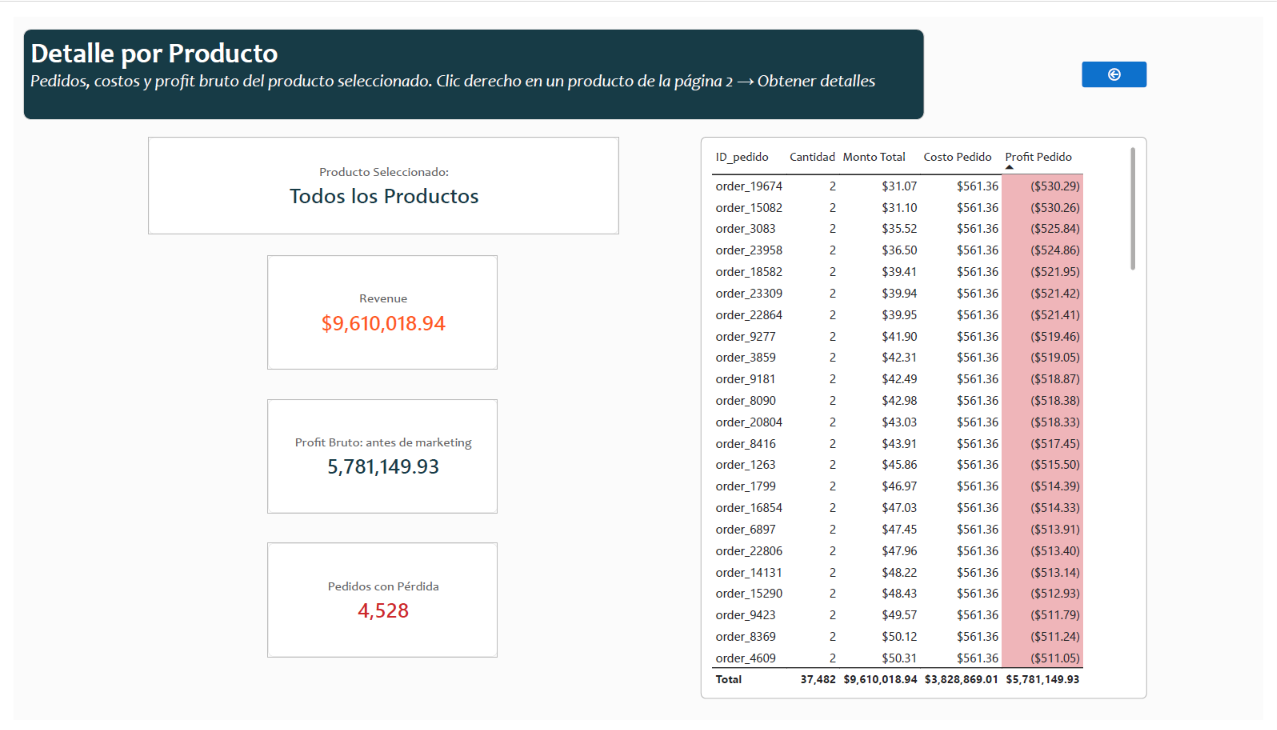

The dashboard page shown, as its layout file describes it:
{"tool":"powerbi","page":{"name":"Detalle por Producto","canvas":[1920,1080],"ordinal":2},"visuals":[{"type":"textbox","box":[14,18,1386,140],"z":0},{"type":"tableEx","fields":{"Values":["orders_clean.id_pedido","Sum(orders_clean.cantidad)","Sum(orders_clean.monto_total)","Sum(orders_clean.costo_pedido)","Sum(orders_clean.profit_pedido)"]},"box":[1056,184,686,864],"z":4},{"type":"actionButton","box":[1642,68,100,40],"z":5},{"type":"cardVisual","fields":{"Data":["orders_clean.Revenue"]},"box":[390.4,366,354,176],"z":6},{"type":"cardVisual","fields":{"Data":["orders_clean.Profit Bruto"]},"box":[390.4,587,354,176],"z":7},{"type":"cardVisual","fields":{"Data":["orders_clean.Pedidos con pérdida"]},"box":[390.4,808,354,176],"z":8},{"type":"cardVisual","fields":{"Data":["orders_clean.Producto Seleccionado"]},"box":[206,184,724,150],"z":9}]}

Visuals, with their boxes in screenshot pixels (x1, y1, x2, y2), scaled from the page's 1920x1080 canvas onto the 1277x730 screenshot:
textbox: [9,12,931,107]
tableEx - orders_clean.id_pedido x Sum(orders_clean.cantidad): [702,124,1159,708]
actionButton: [1092,46,1159,73]
cardVisual - orders_clean.Revenue: [260,247,495,366]
cardVisual - orders_clean.Profit Bruto: [260,397,495,516]
cardVisual - orders_clean.Pedidos con pérdida: [260,546,495,665]
cardVisual - orders_clean.Producto Seleccionado: [137,124,619,226]
